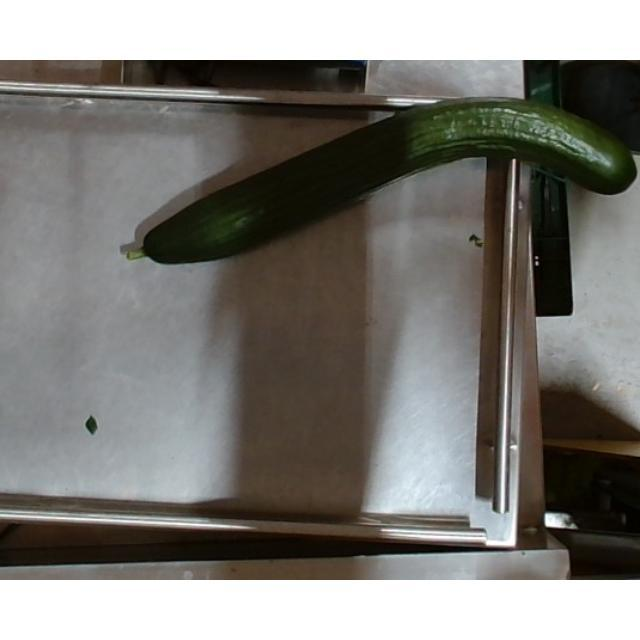cucumber: (124, 96, 638, 264)
